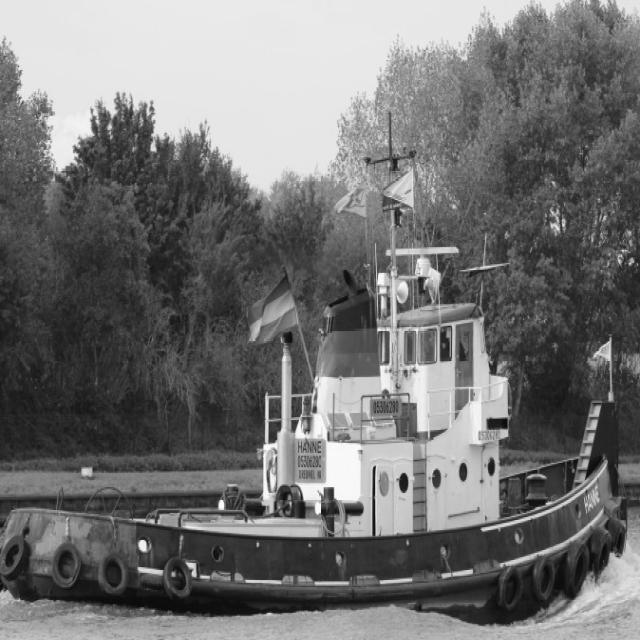tugboat: (1, 241, 634, 636)
